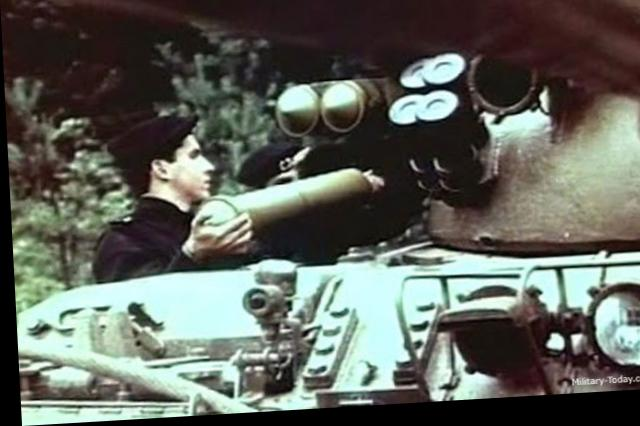other: (99, 107, 213, 284)
